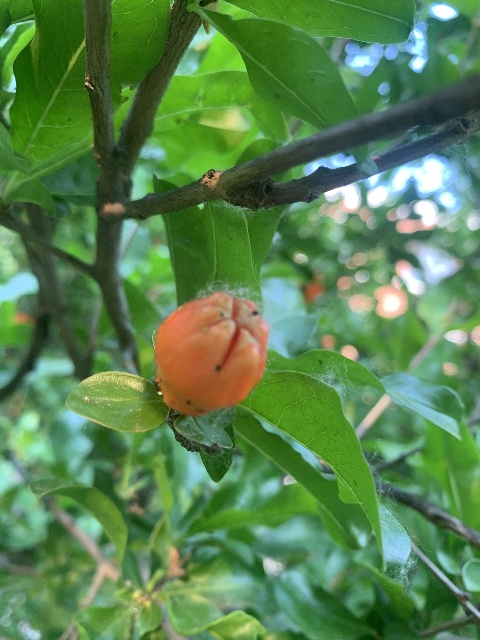bud: (154, 293, 268, 416)
